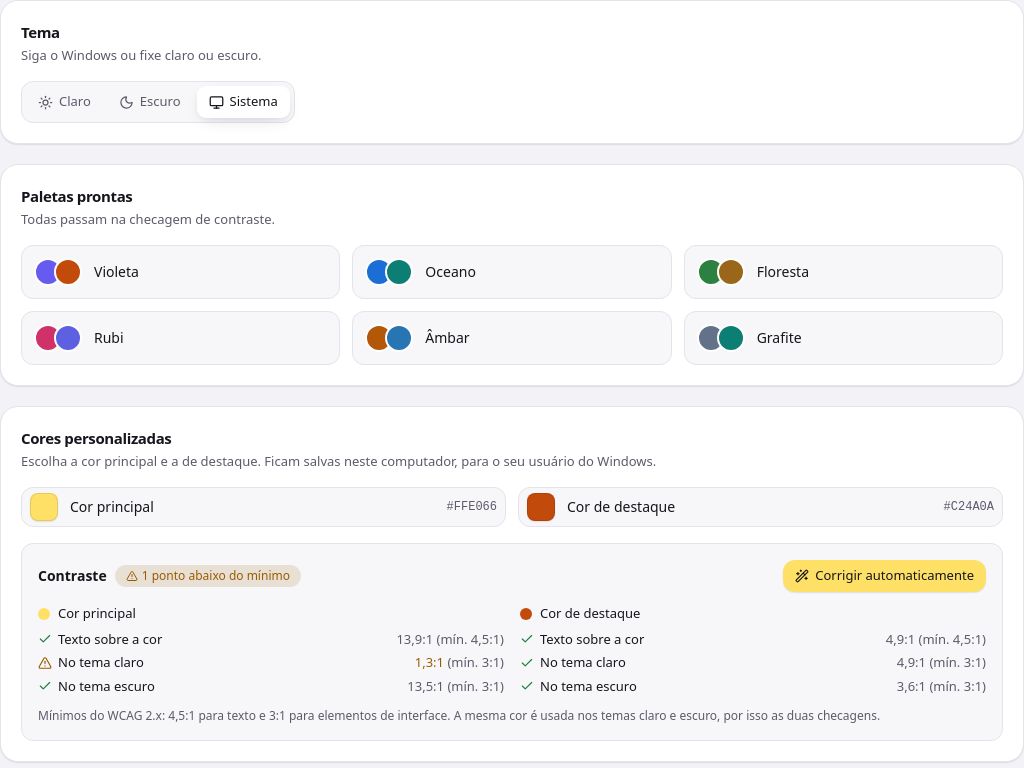
it: Tela de aparência › avisa contraste baixo e corrige automaticamente
Check: the text "1 ponto abaixo do mínimo" is shown, box 115,565 -> 301,587
Click the button "Corrigir automaticamente". click: (885, 576)
box: 783,560 -> 986,592
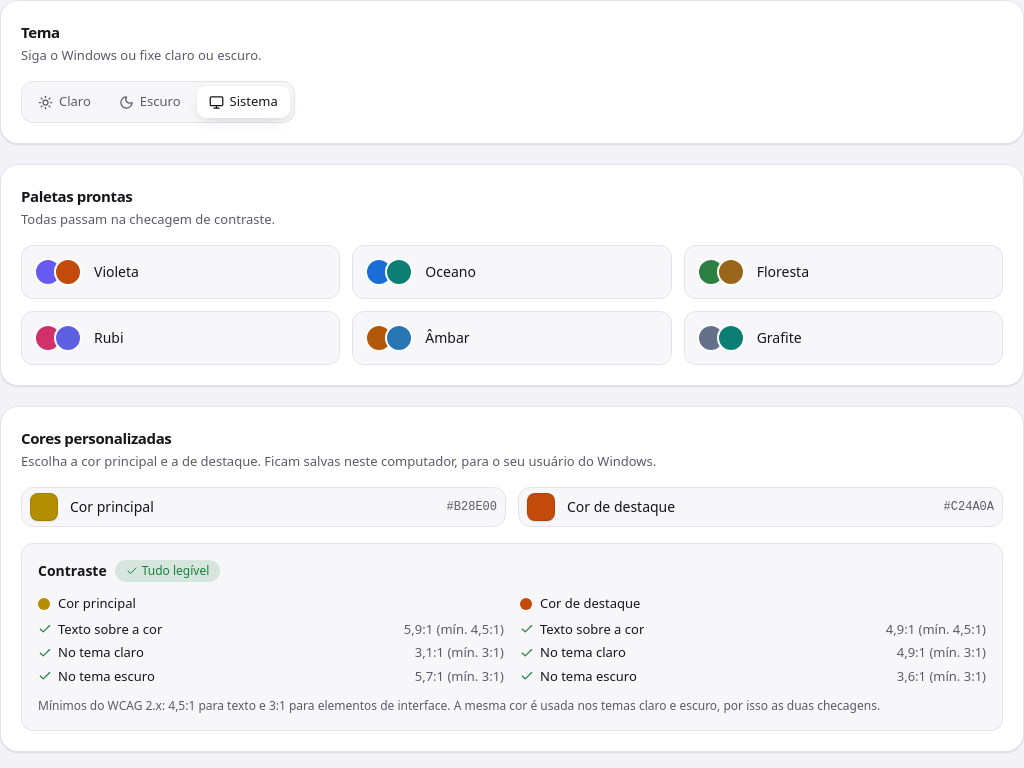
Check: the text "Tudo legível" is shown, box 115,560 -> 220,582
